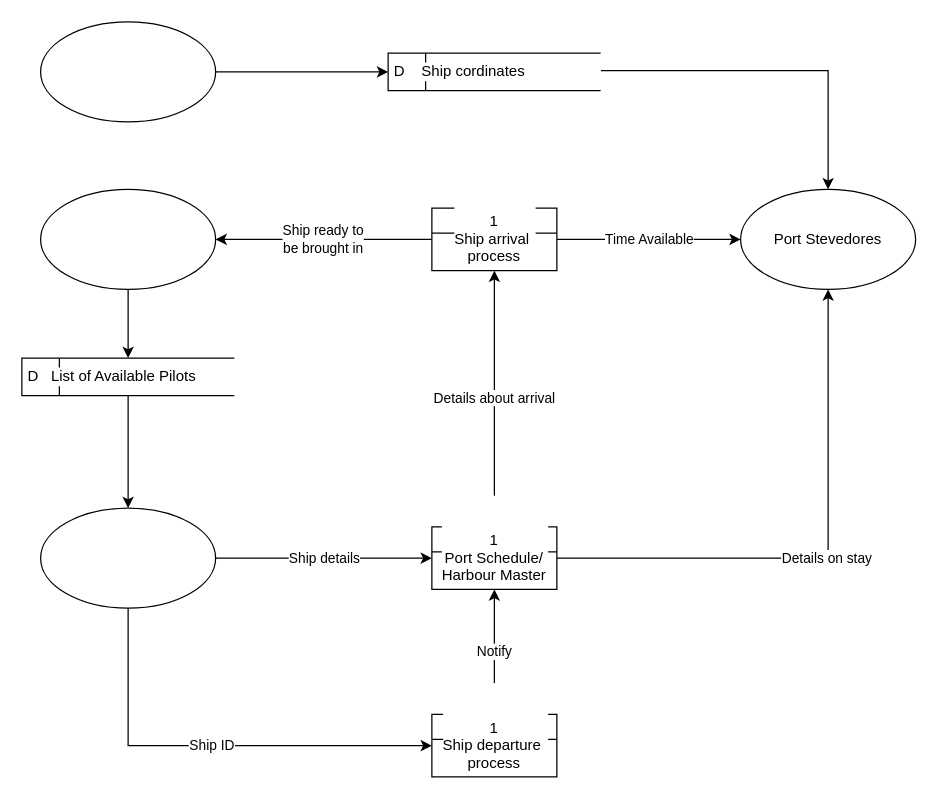
This 938x799 diagram has some shape labels left out. The shapes that lost their labels are listed below. From the top down, each one's centre as x and y in pixels, then its label:
the point at 127,71: GPS API
the point at 127,238: Port Pilots
the point at 127,557: Shipping Line
